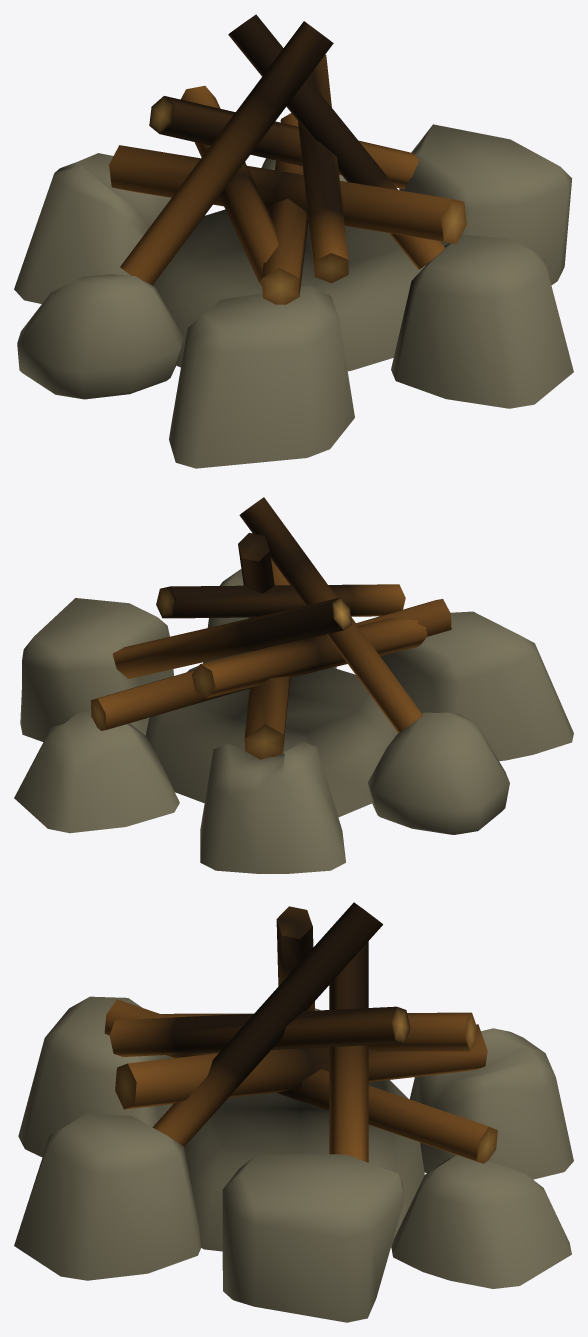
The model's file is Fogueira.fbx.
The picture shows the model from 3 angles, top to bottom: view 1: azimuth 30°, elevation 25°; view 2: azimuth 150°, elevation 25°; view 3: azimuth 270°, elevation 25°; orthographic projection. The views are drawn at different scales.
Visible parts, largest first — view 1: Fogueria; view 2: Fogueria; view 3: Fogueria.
Part boxes in pixels (<box>): Fogueria: <box>14,14,573,468</box>; Fogueria: <box>14,497,573,873</box>; Fogueria: <box>14,902,573,1322</box>.
Bounding box in the file's own units: 93.97 × 51.84 × 88.35.
